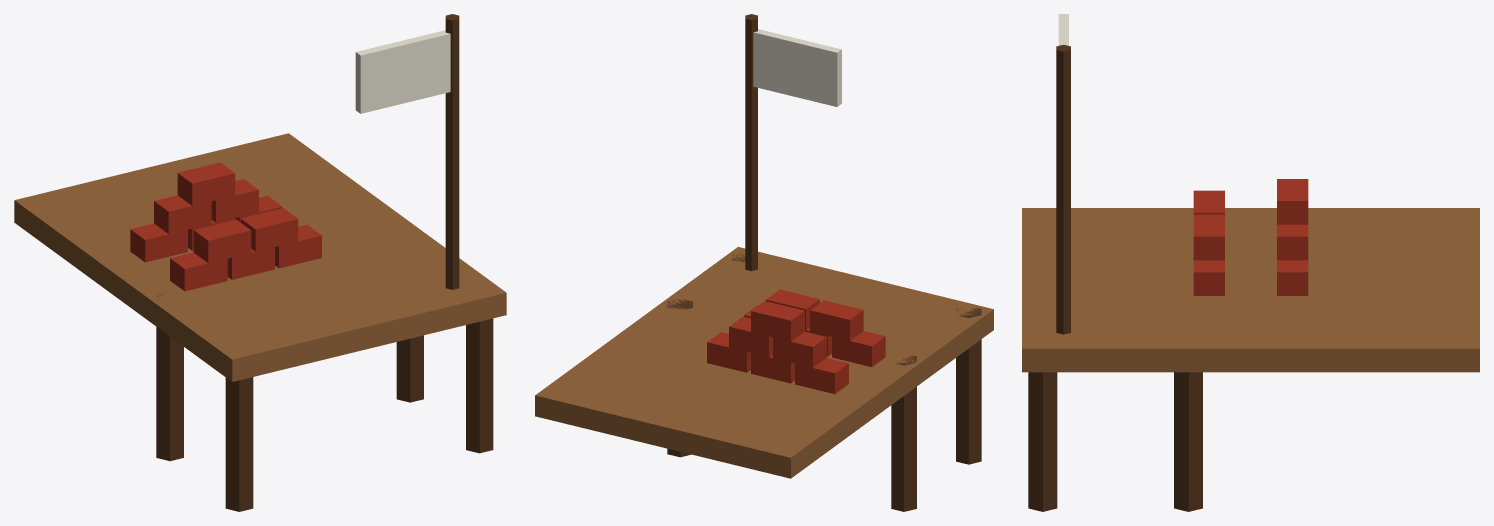
The model's file is brick.obj.
3 views of the same model, side by side, from view 1: azimuth 30°, elevation 25°; view 2: azimuth 150°, elevation 25°; view 3: azimuth 270°, elevation 25° (orthographic). The views are drawn at different scales.
Visible parts, largest first — view 1: brick; view 2: brick; view 3: brick.
Part boxes in pixels (bbox=[...]): brick: bbox=[14, 14, 506, 511]; brick: bbox=[535, 14, 993, 511]; brick: bbox=[1022, 14, 1479, 511].
Size of the model in its own units: 0.32 by 0.475 by 0.44.
